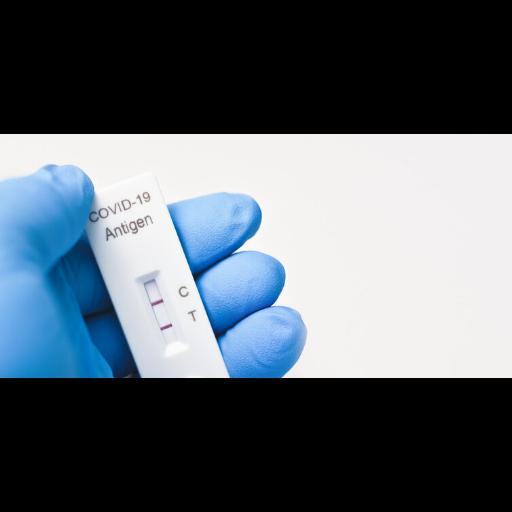Pos: (74, 171, 222, 377)
